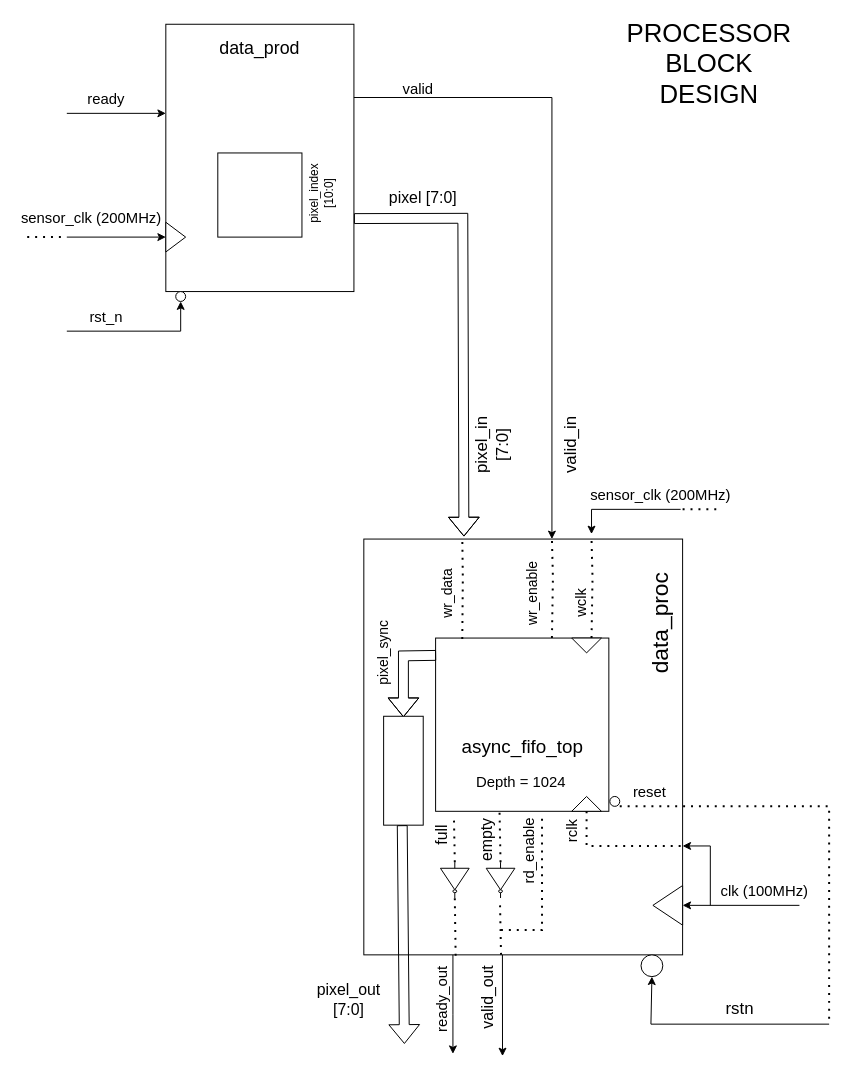
This 854x1081 diagram has some shape labels left out. Each missing label, with the centre of its shape:
"image_mem [0:1023]" belongs at point 259,194.
"Operational block" belongs at point 403,770.
